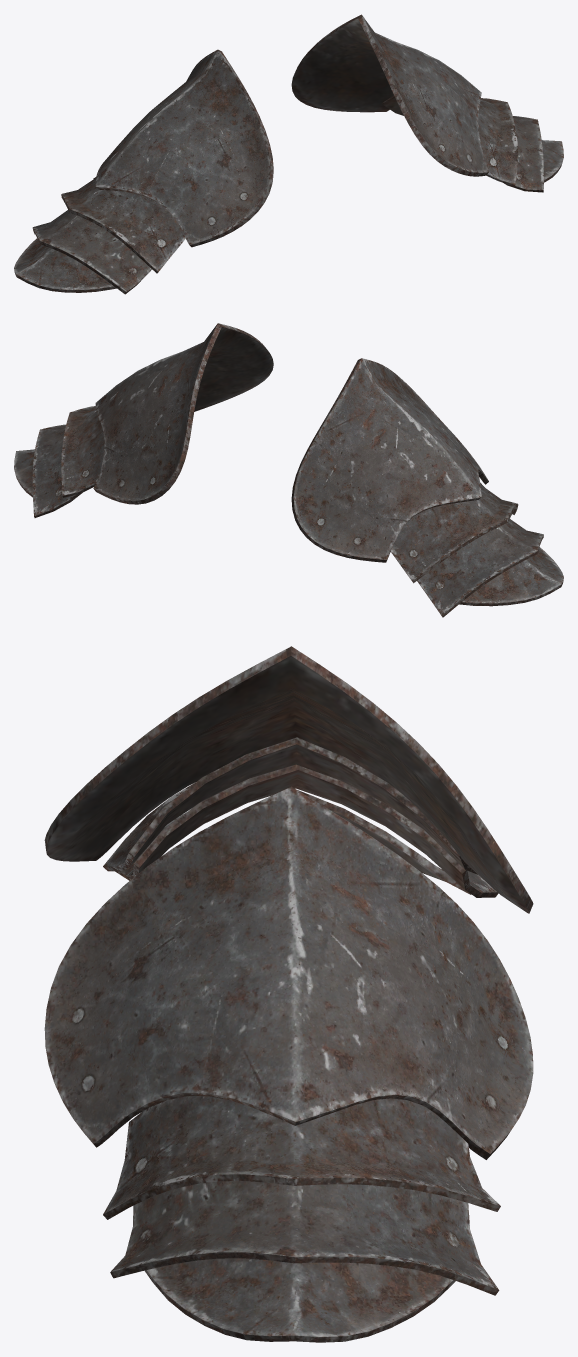
File: sk_gb_uruk_pauldron_elite_d.fbx
The picture shows the model from 3 angles, top to bottom: view 1: azimuth 30°, elevation 25°; view 2: azimuth 150°, elevation 25°; view 3: azimuth 270°, elevation 25°; orthographic projection. The views are drawn at different scales.
Visible parts, largest first — view 1: sk_gb_uruk_pauldron_elite_d; view 2: sk_gb_uruk_pauldron_elite_d; view 3: sk_gb_uruk_pauldron_elite_d.
Part boxes in pixels (bbox=[...]): sk_gb_uruk_pauldron_elite_d: bbox=[14, 14, 563, 294]; sk_gb_uruk_pauldron_elite_d: bbox=[14, 323, 563, 617]; sk_gb_uruk_pauldron_elite_d: bbox=[44, 646, 533, 1342].
Size of the model in its own units: 0.8777 by 0.3402 by 0.2922.
1 material, 1 textured.
